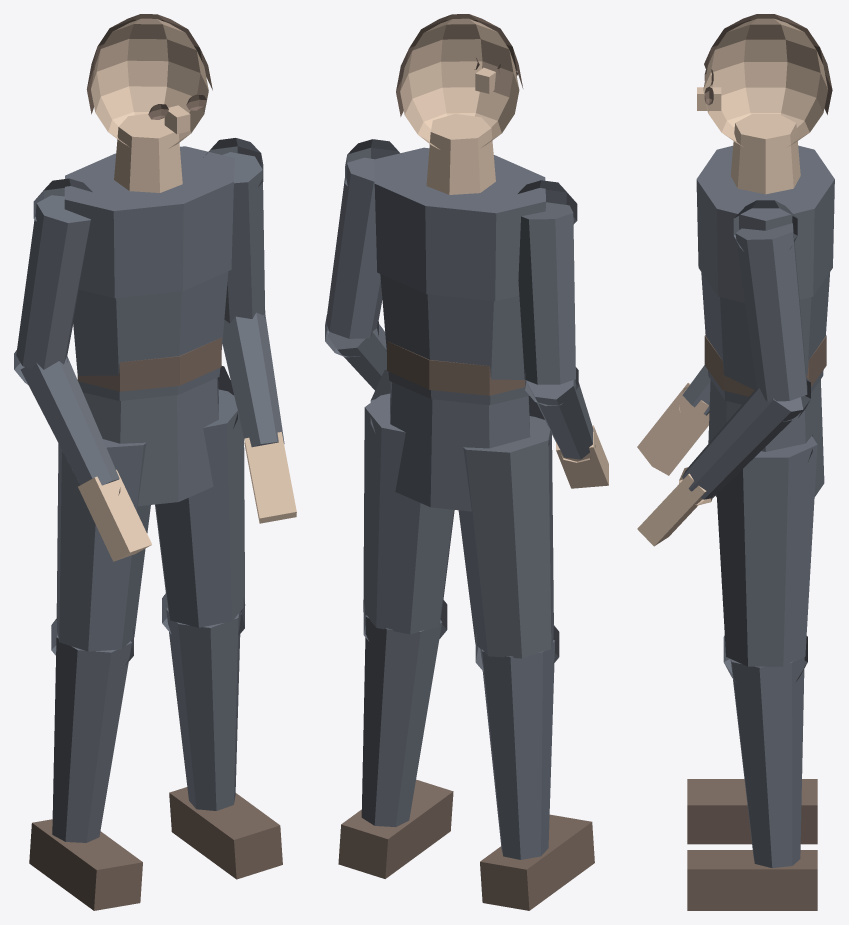
File: low-poly-character-figures-civilian-hands-in-pockets-65efe4c2.glb
3 views of the same model, side by side, from view 1: azimuth 30°, elevation 25°; view 2: azimuth 150°, elevation 25°; view 3: azimuth 270°, elevation 25° (orthographic).
Parts seen in each view (by area): view 1: civilian-hands-in-pockets; view 2: civilian-hands-in-pockets; view 3: civilian-hands-in-pockets.
Boxes of the visible parts, bbox=[...] form: civilian-hands-in-pockets: bbox=[14, 14, 296, 910]; civilian-hands-in-pockets: bbox=[325, 14, 608, 910]; civilian-hands-in-pockets: bbox=[637, 14, 834, 910].
Size of the model in its own units: 0.5318 by 1.76 by 0.3716.
